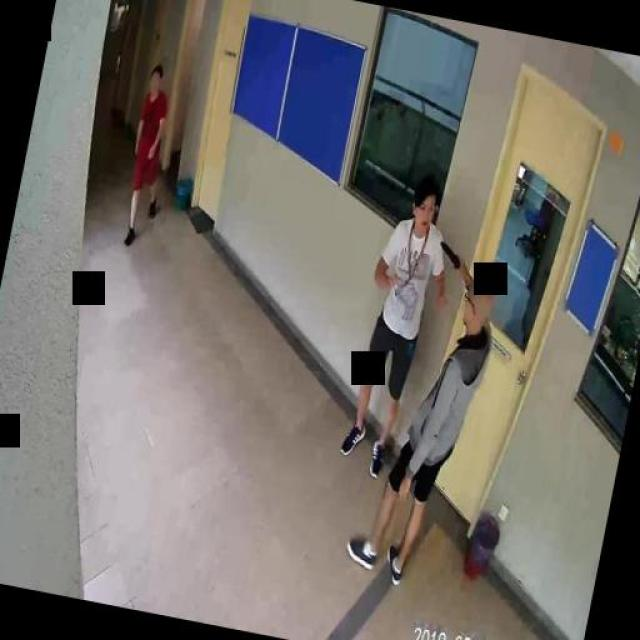gun: (435, 238, 467, 272)
